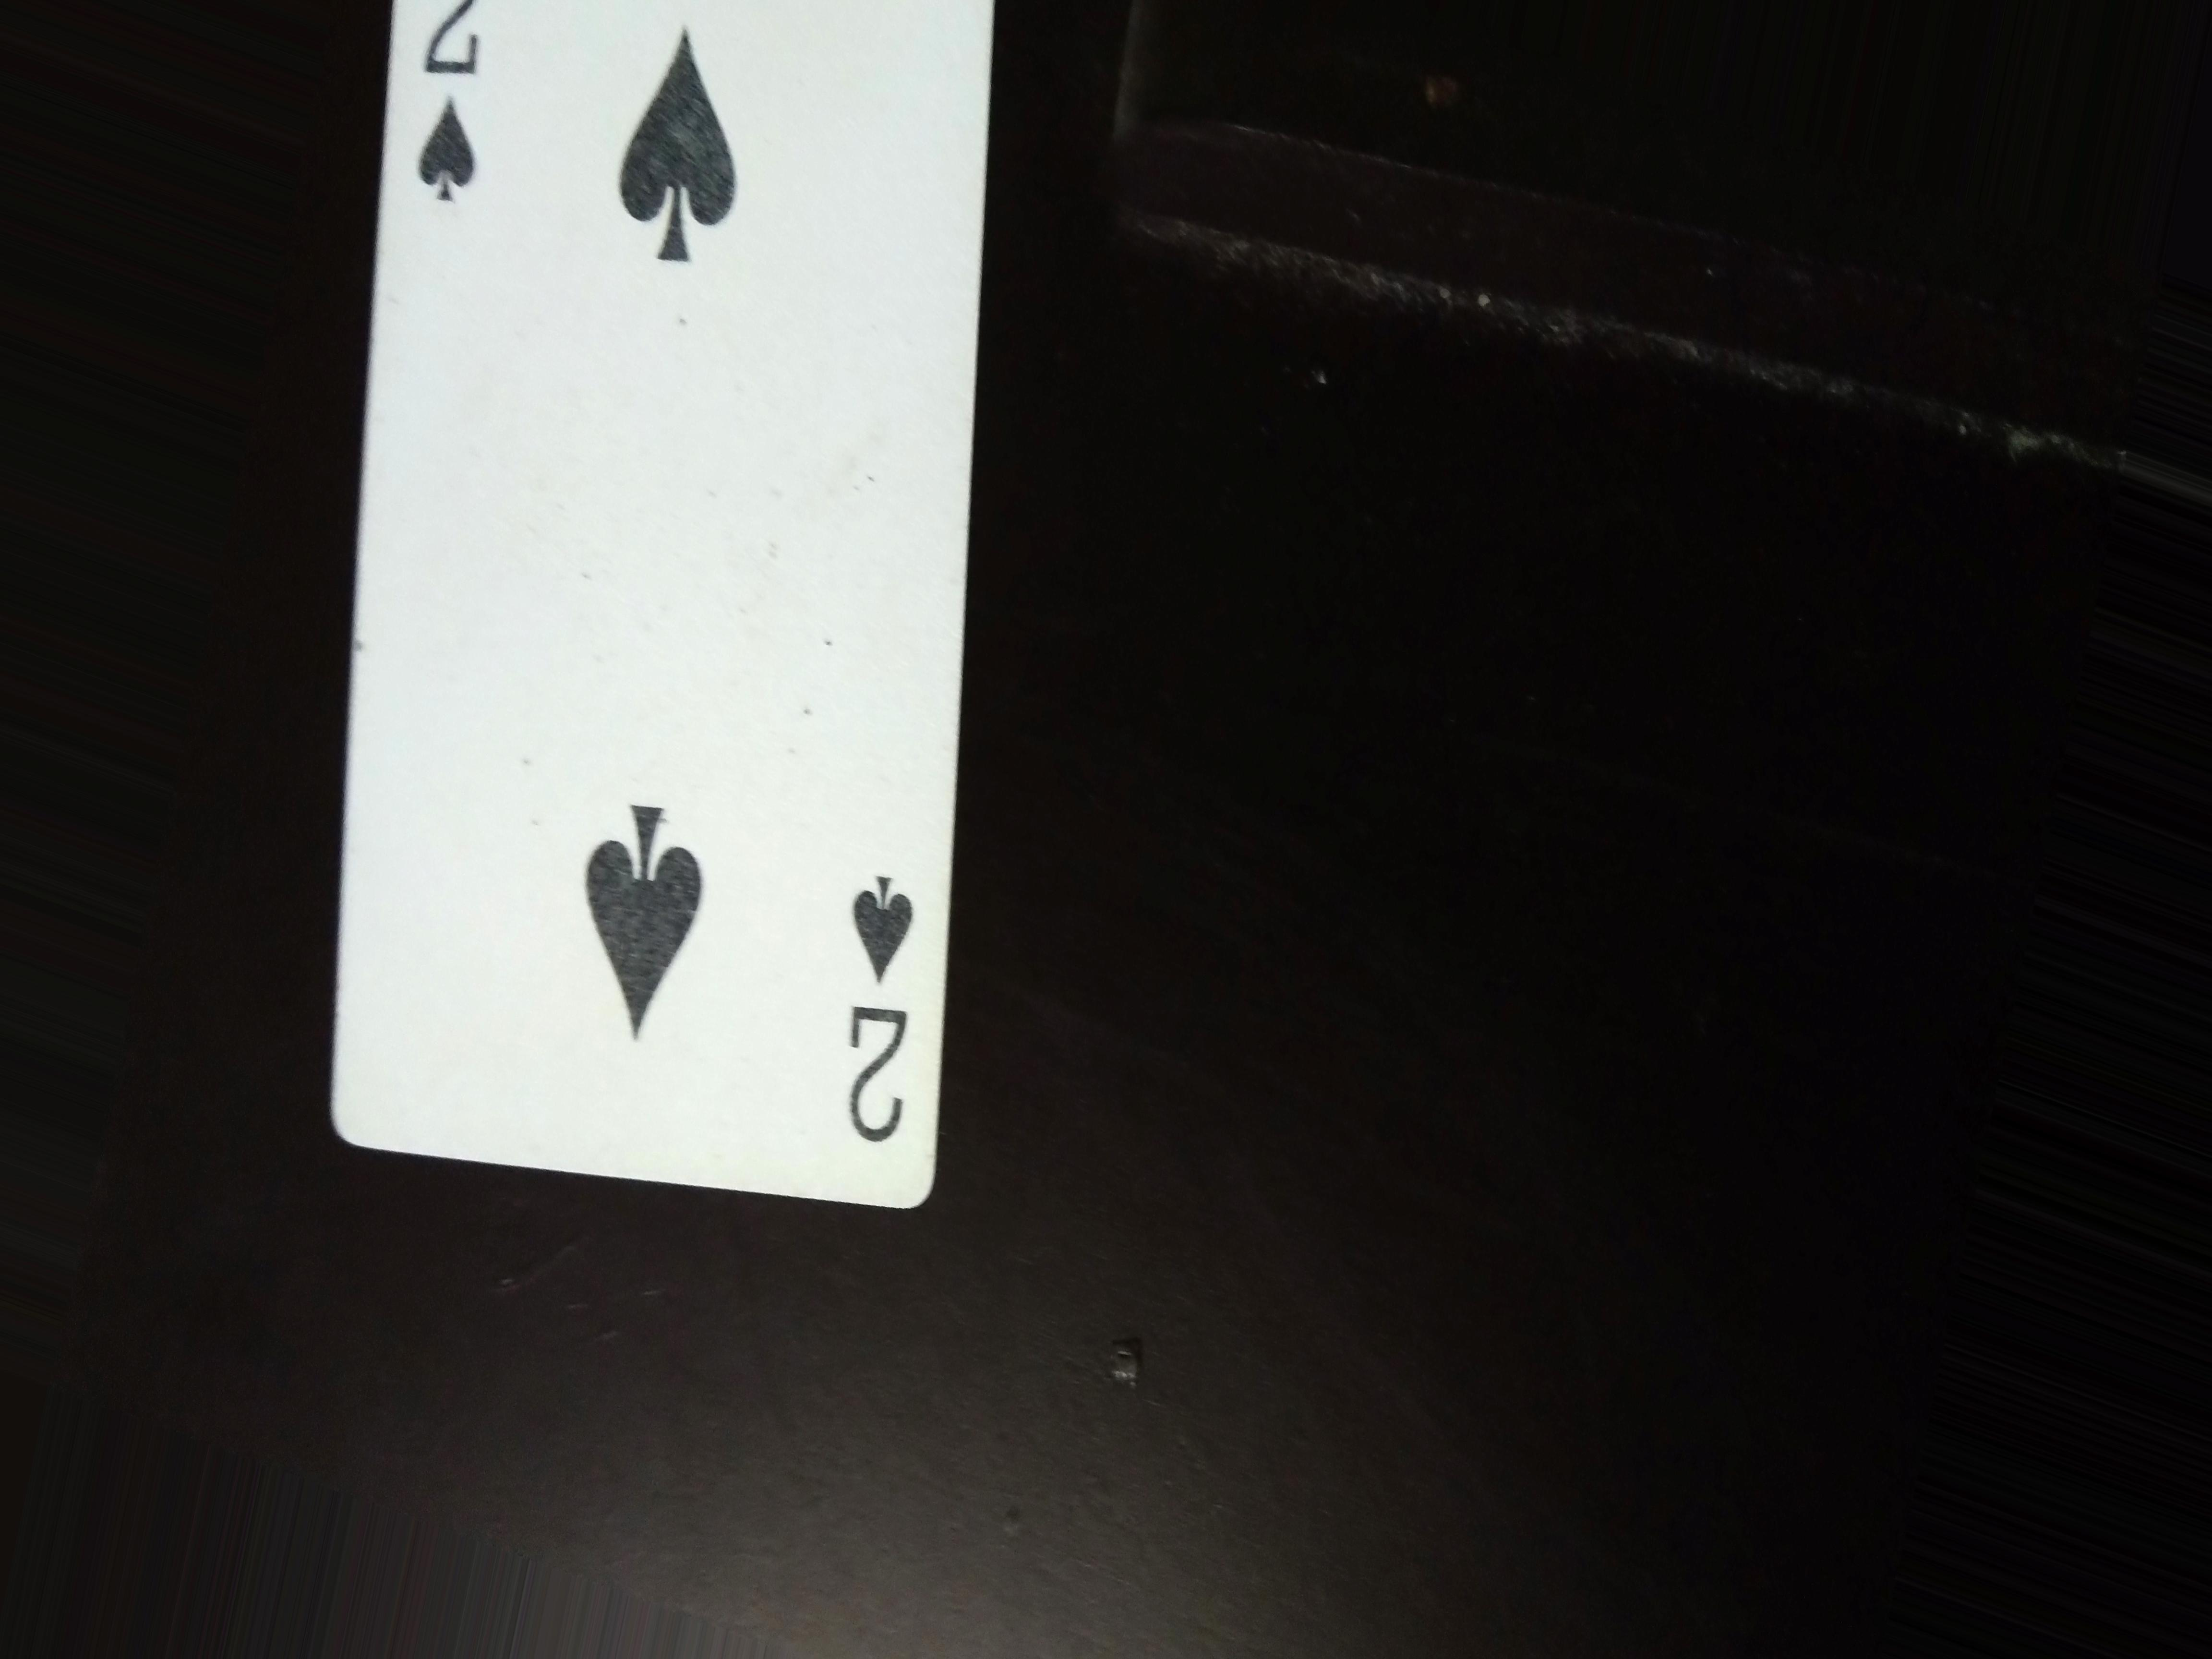2S: (833, 863, 927, 1166)
